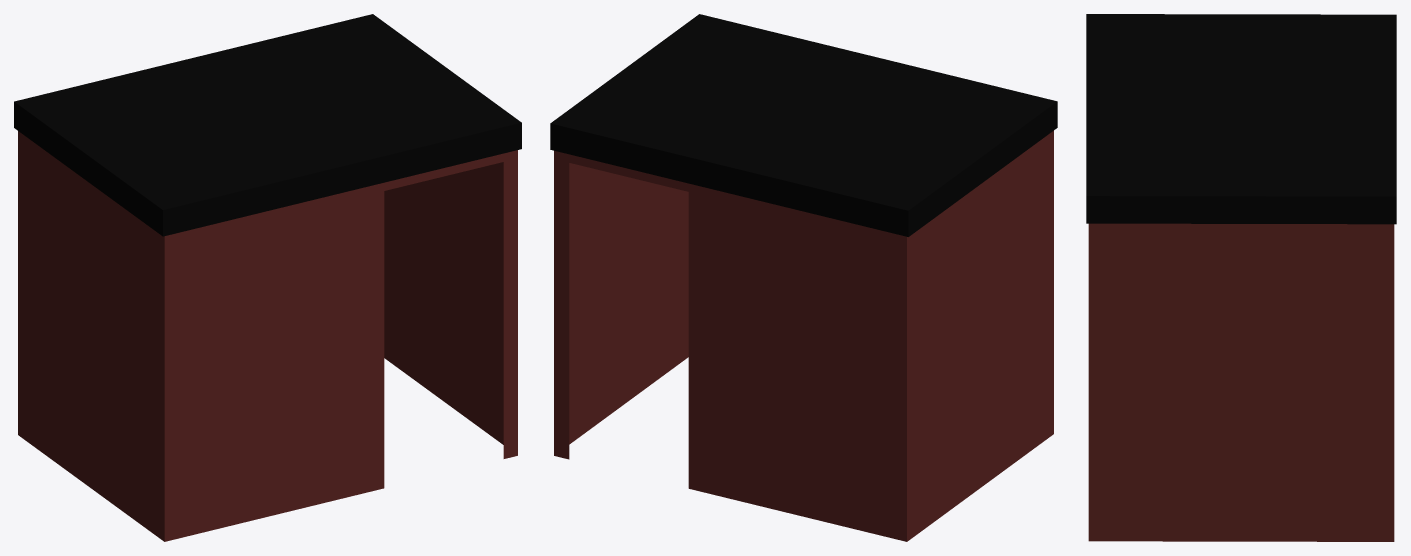
File: Laundry.fbx
3 views of the same model, side by side, from view 1: azimuth 30°, elevation 25°; view 2: azimuth 150°, elevation 25°; view 3: azimuth 270°, elevation 25° (orthographic). The views are drawn at different scales.
Visible parts, largest first — view 1: Laundry; view 2: Laundry; view 3: Laundry.
Part boxes in pixels (x1,y1,x2,y2): Laundry: (14, 14, 521, 541); Laundry: (550, 14, 1057, 541); Laundry: (1086, 14, 1396, 541).
Bounding box in the file's own units: 263 × 234 × 189.
